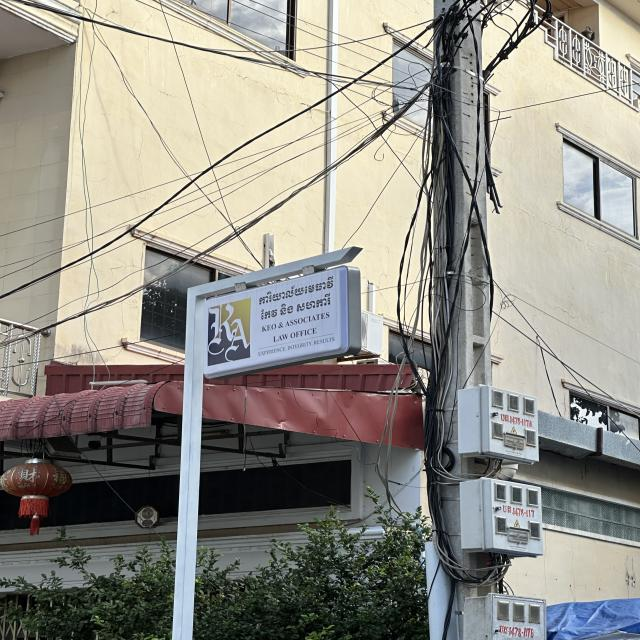2: (257, 293, 334, 323)
Yolov11_80vkh: (252, 273, 339, 307)
